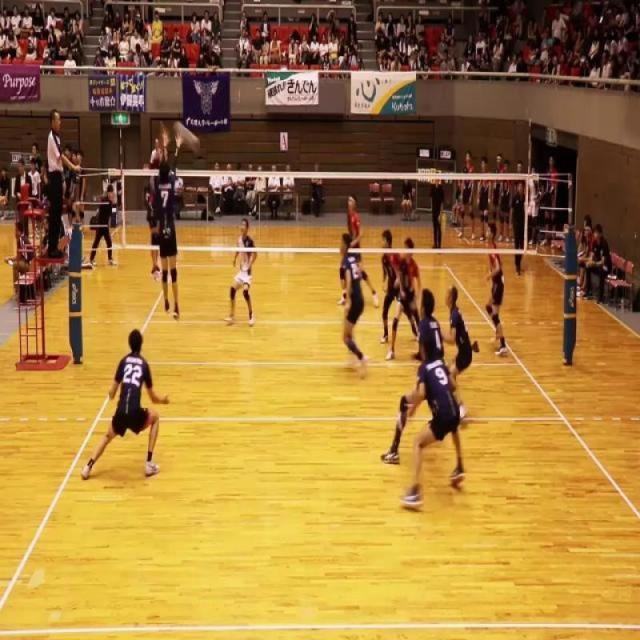volleyball: (172, 120, 201, 154)
